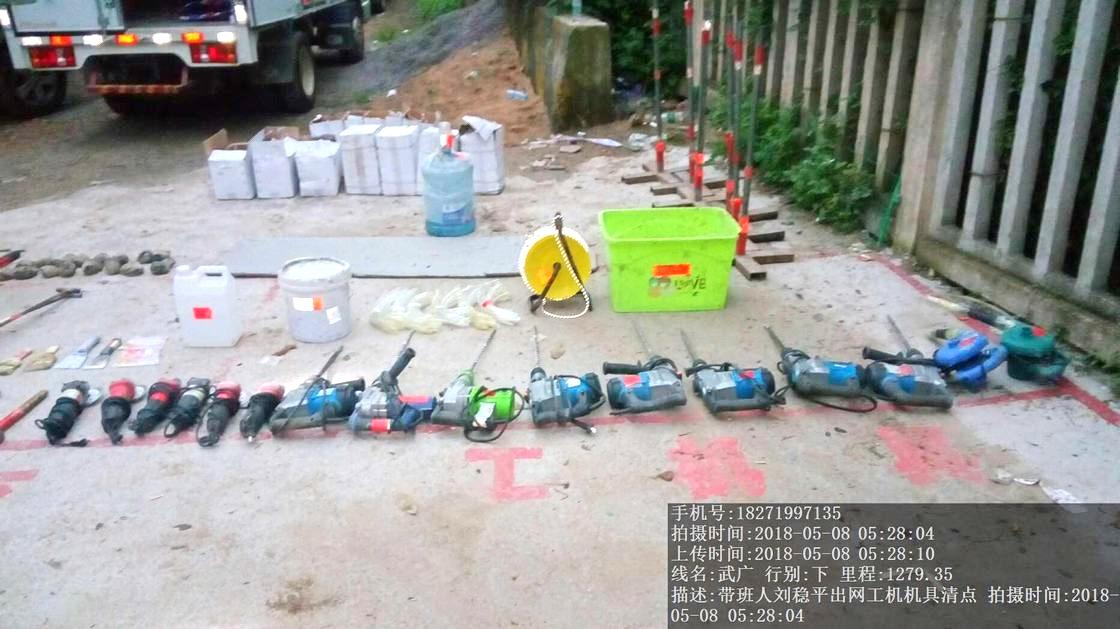DMJ: (38, 380, 101, 447), (129, 379, 180, 435), (97, 373, 137, 443), (206, 375, 243, 445)
DZ: (673, 327, 783, 412), (591, 323, 688, 415), (777, 323, 868, 415), (520, 326, 602, 428), (428, 354, 524, 437), (862, 332, 947, 417), (351, 362, 429, 444)
T: (593, 203, 743, 315)
